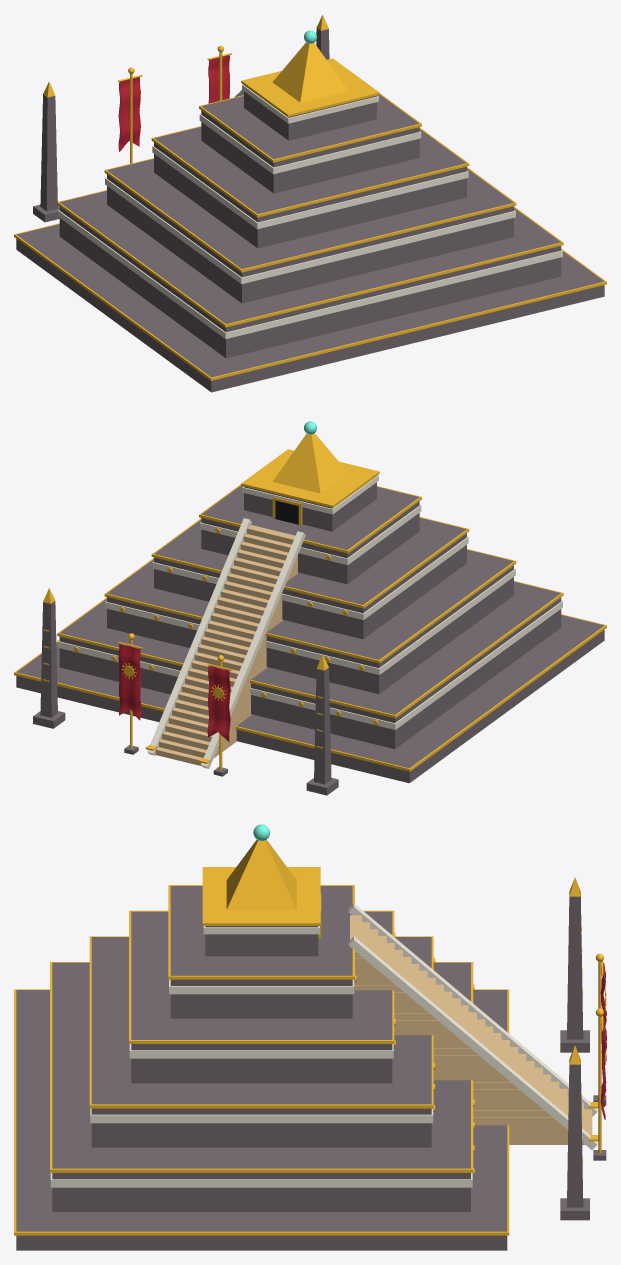
The model's file is SandTemple.obj.
3 renders of one model, top to bottom at view 1: azimuth 30°, elevation 25°; view 2: azimuth 150°, elevation 25°; view 3: azimuth 270°, elevation 25°, orthographic. The views are drawn at different scales.
Parts seen in each view (by area): view 1: Stone, Gold, Paint, Cloth; view 2: Stone, Gold, Paint, Steps, Cloth; view 3: Stone, Gold, Paint, Steps, Cloth.
Part boxes in pixels (x1=…): Stone: x1=16, y1=28, x2=604, y2=392; Gold: x1=14, y1=15, x2=606, y2=380; Paint: x1=58, y1=84, x2=562, y2=339; Cloth: x1=118, y1=55, x2=229, y2=151; Stone: x1=16, y1=476, x2=604, y2=795; Gold: x1=14, y1=433, x2=606, y2=771; Paint: x1=58, y1=475, x2=562, y2=768; Steps: x1=155, y1=525, x2=298, y2=766; Cloth: x1=118, y1=644, x2=230, y2=742; Stone: x1=16, y1=886, x2=606, y2=1250; Gold: x1=14, y1=839, x2=606, y2=1235; Paint: x1=50, y1=903, x2=597, y2=1187; Steps: x1=350, y1=915, x2=592, y2=1144; Cloth: x1=600, y1=962, x2=606, y2=1119.
Bounding box in the file's own units: 151 × 88.58 × 155.
